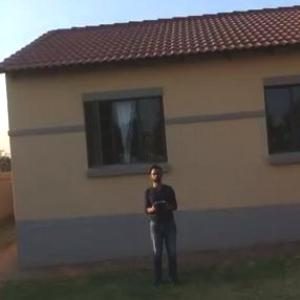follow: (140, 156, 184, 297)
